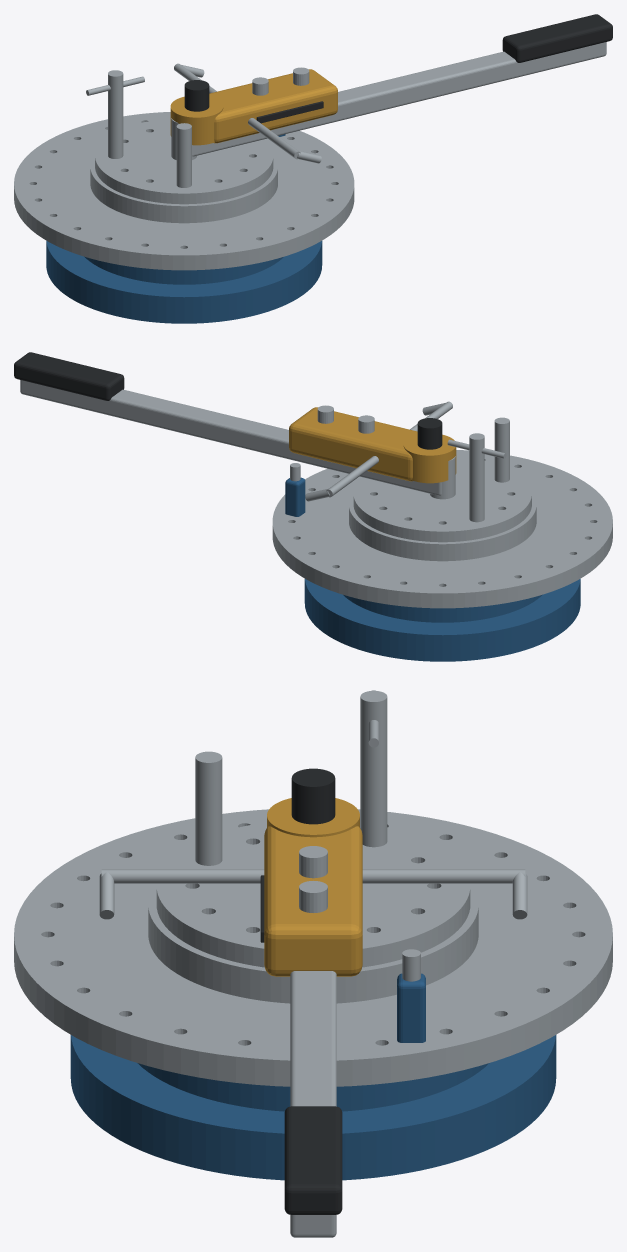
File: full.fbx
3 views of the same model, one above another, from view 1: azimuth 30°, elevation 25°; view 2: azimuth 150°, elevation 25°; view 3: azimuth 270°, elevation 25° (orthographic). The views are drawn at different scales.
Visible parts, largest first — view 1: Perforated round worktable, Circular mounting foot, Perforated pin table, Radial long arm, Main clamp carriage, Raised forming bed, Long end grip, Pedestal neck, Raised forming boss, Upright stop pin B, Upright stop pin A, Unmarked central fastener (+2 smaller); view 2: Perforated round worktable, Circular mounting foot, Perforated pin table, Radial long arm, Main clamp carriage, Raised forming bed, Long end grip, Pedestal neck, Raised forming boss, Upright stop pin B, Upright stop pin A, Unmarked central fastener (+3 smaller); view 3: Perforated round worktable, Circular mounting foot, Perforated pin table, Main clamp carriage, Raised forming bed, Radial long arm, Long end grip, Pedestal neck, Upright stop pin B, Upright stop pin A, Transverse clamp handle 1, Unmarked central fastener (+5 smaller).
Boxes of the visible parts, x1,y1,x2,y2 form: Perforated round worktable: (14, 112, 354, 270); Circular mounting foot: (46, 241, 322, 323); Perforated pin table: (95, 118, 273, 204); Radial long arm: (192, 42, 606, 156); Main clamp carriage: (209, 69, 337, 143); Raised forming bed: (90, 154, 277, 223); Long end grip: (502, 14, 612, 62); Pedestal neck: (84, 256, 283, 284); Raised forming boss: (170, 96, 223, 145); Upright stop pin B: (108, 70, 123, 158); Upright stop pin A: (176, 123, 191, 187); Unmarked central fastener: (184, 80, 209, 111); Perforated round worktable: (272, 450, 612, 608); Circular mounting foot: (304, 579, 580, 661); Perforated pin table: (353, 456, 531, 542); Radial long arm: (20, 380, 441, 495); Main clamp carriage: (289, 407, 417, 481); Raised forming bed: (349, 492, 536, 561); Long end grip: (14, 352, 124, 400); Pedestal neck: (343, 594, 542, 622); Raised forming boss: (403, 434, 456, 483); Upright stop pin B: (469, 433, 484, 522); Upright stop pin A: (494, 417, 509, 482); Unmarked central fastener: (417, 418, 442, 449); Perforated round worktable: (14, 809, 612, 1086); Circular mounting foot: (70, 1035, 556, 1180); Perforated pin table: (156, 822, 470, 967); Main clamp carriage: (264, 826, 362, 976); Raised forming bed: (148, 883, 478, 1003); Radial long arm: (290, 971, 336, 1237); Long end grip: (284, 1106, 342, 1214); Pedestal neck: (137, 1063, 489, 1111); Upright stop pin B: (360, 690, 387, 847); Upright stop pin A: (195, 751, 222, 865); Transverse clamp handle 1: (362, 869, 525, 883); Unmarked central fastener: (291, 768, 335, 824).
Size of the model in its own units: 112 by 36.1 by 58.
